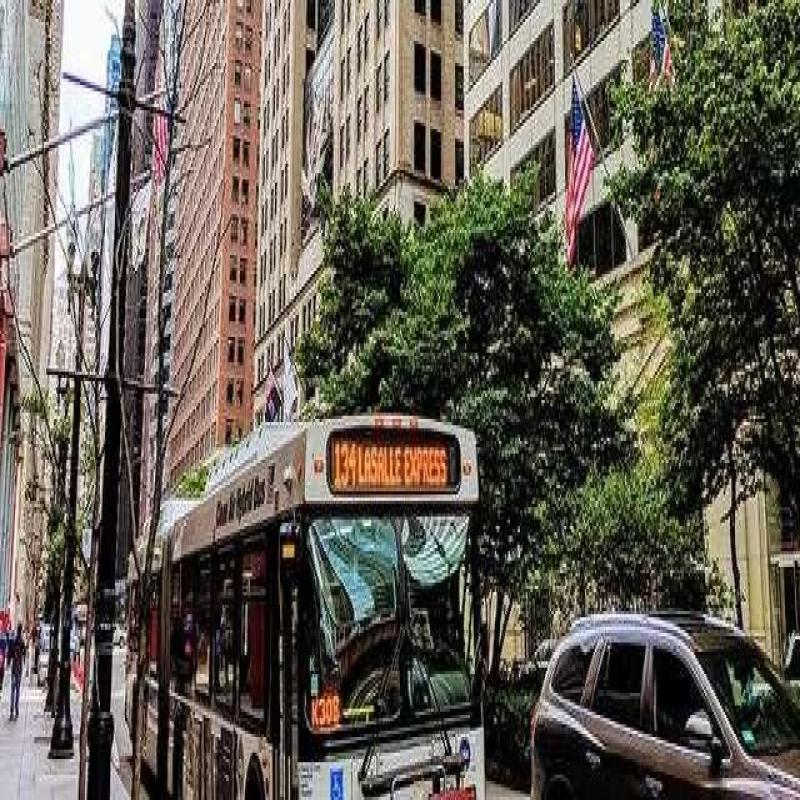bus: (113, 437, 506, 800)
